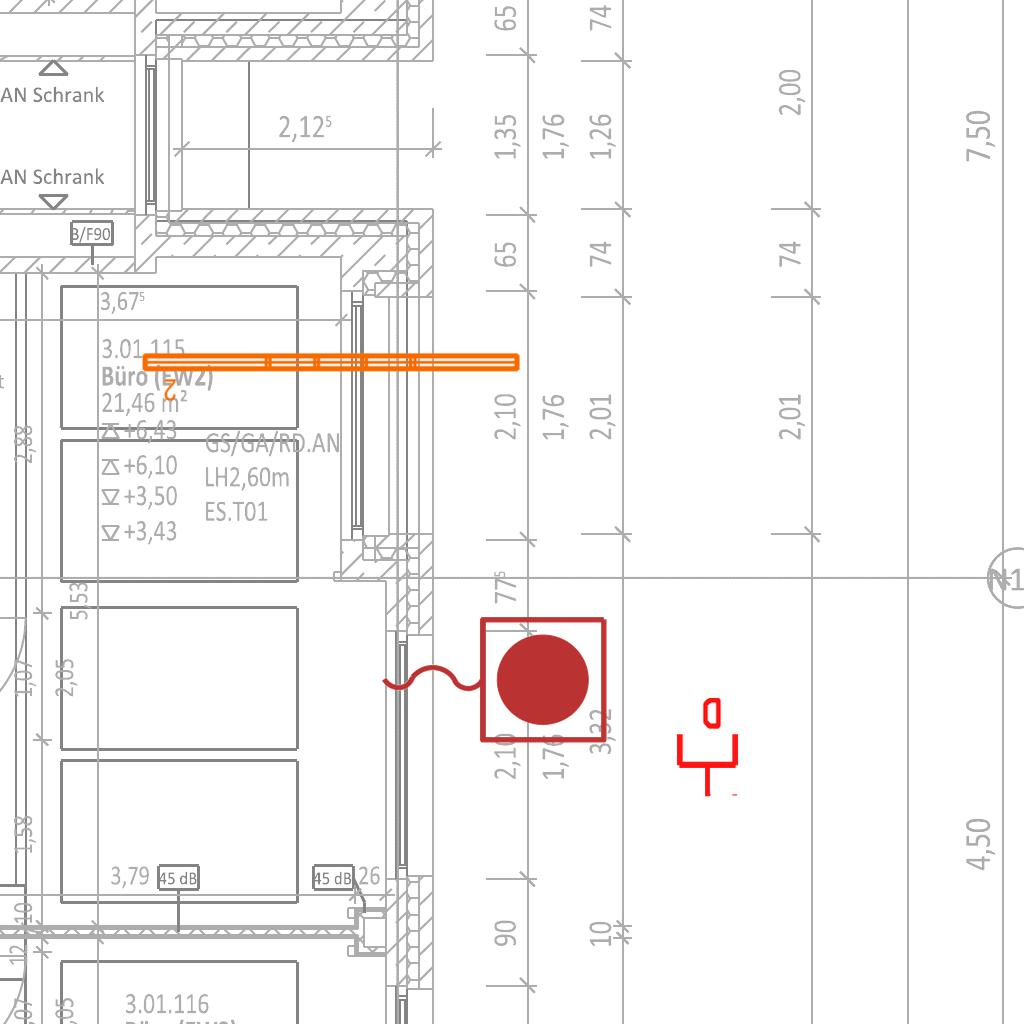Ambulanz_Pendelleuchte_LED: (138, 347, 525, 403)
Datenanschluss_einfach: (673, 698, 742, 798)
Zugtaster: (371, 606, 615, 750)
